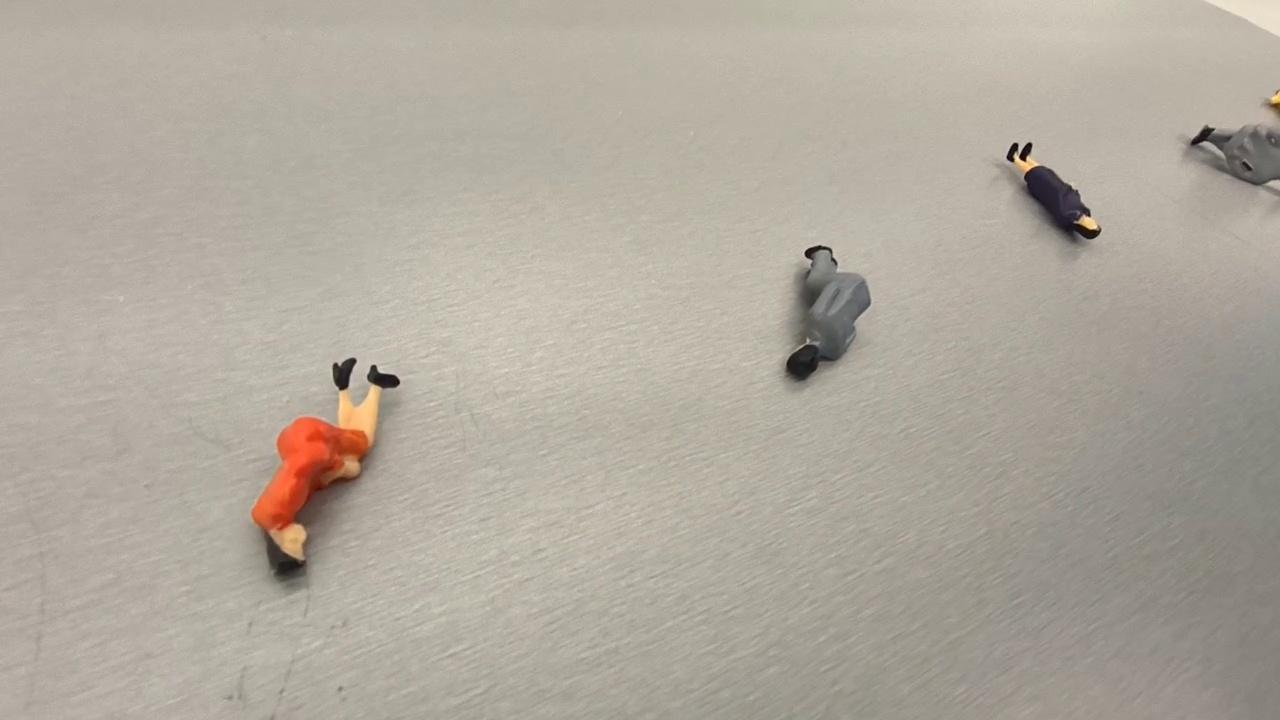human: (253, 356, 401, 584), (787, 244, 871, 390), (1005, 138, 1104, 238), (1189, 120, 1280, 196), (1263, 82, 1280, 110)
